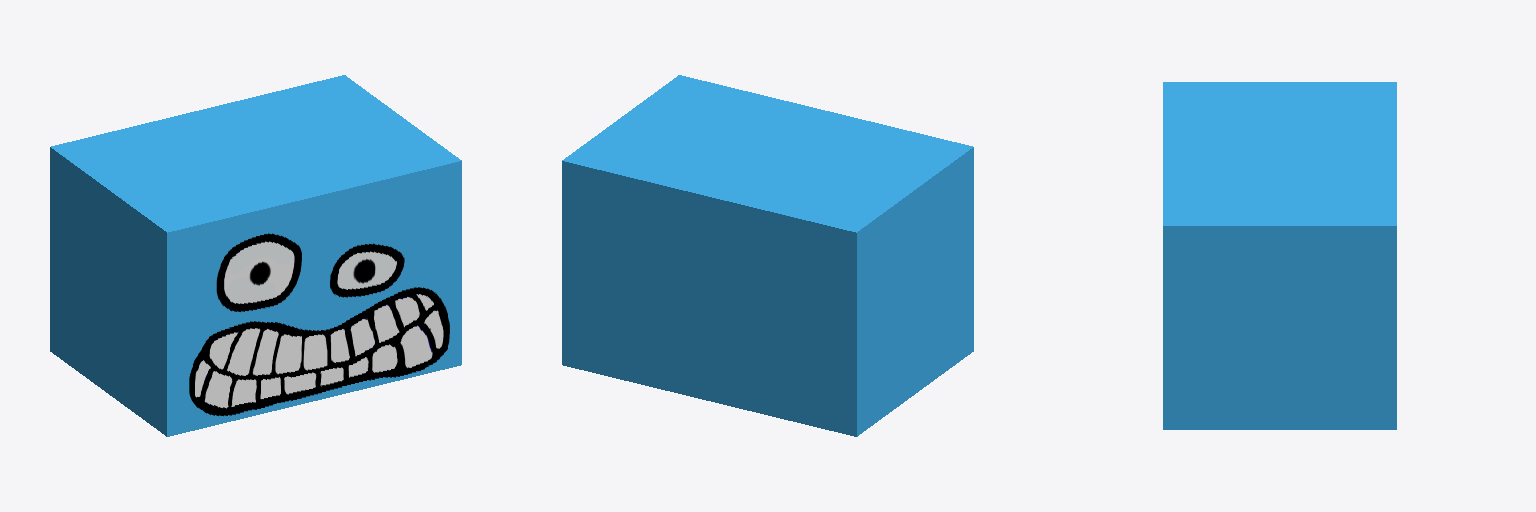
3 views of the same model, side by side, from view 1: azimuth 30°, elevation 25°; view 2: azimuth 150°, elevation 25°; view 3: azimuth 270°, elevation 25° (orthographic).
Visible parts, largest first — view 1: Cube.003; view 2: Cube.003; view 3: Cube.003.
Boxes of the visible parts, <box> form: Cube.003: <box>50,75,461,436</box>; Cube.003: <box>562,75,973,436</box>; Cube.003: <box>1163,82,1396,429</box>.
Bounding box in the file's own units: 43.51 × 28.83 × 30.03.
Materials: 1 (1 with a texture image).